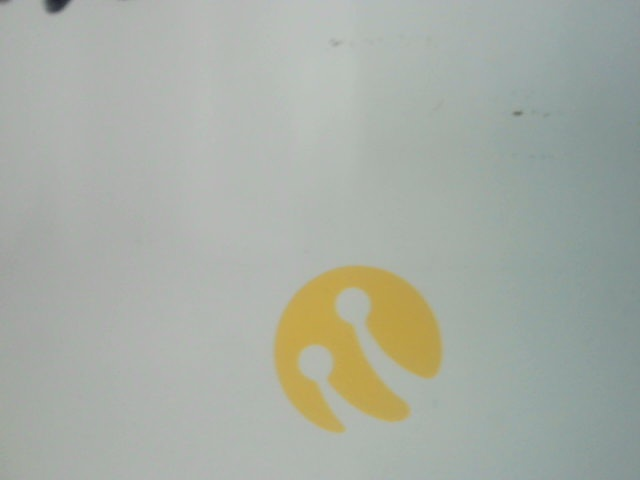AV_H3600Yellow: (251, 260, 463, 436)
